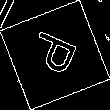P_SE: (25, 28, 85, 82)
